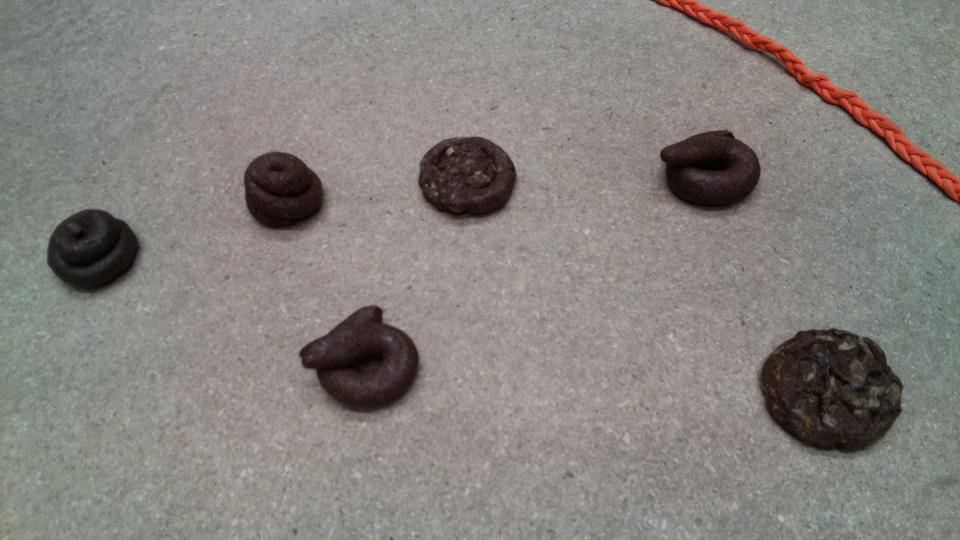poop: (755, 323, 908, 458), (297, 301, 425, 417), (43, 205, 146, 298), (659, 126, 764, 215), (415, 132, 519, 220), (242, 149, 326, 234)
rope: (640, 1, 960, 213)
